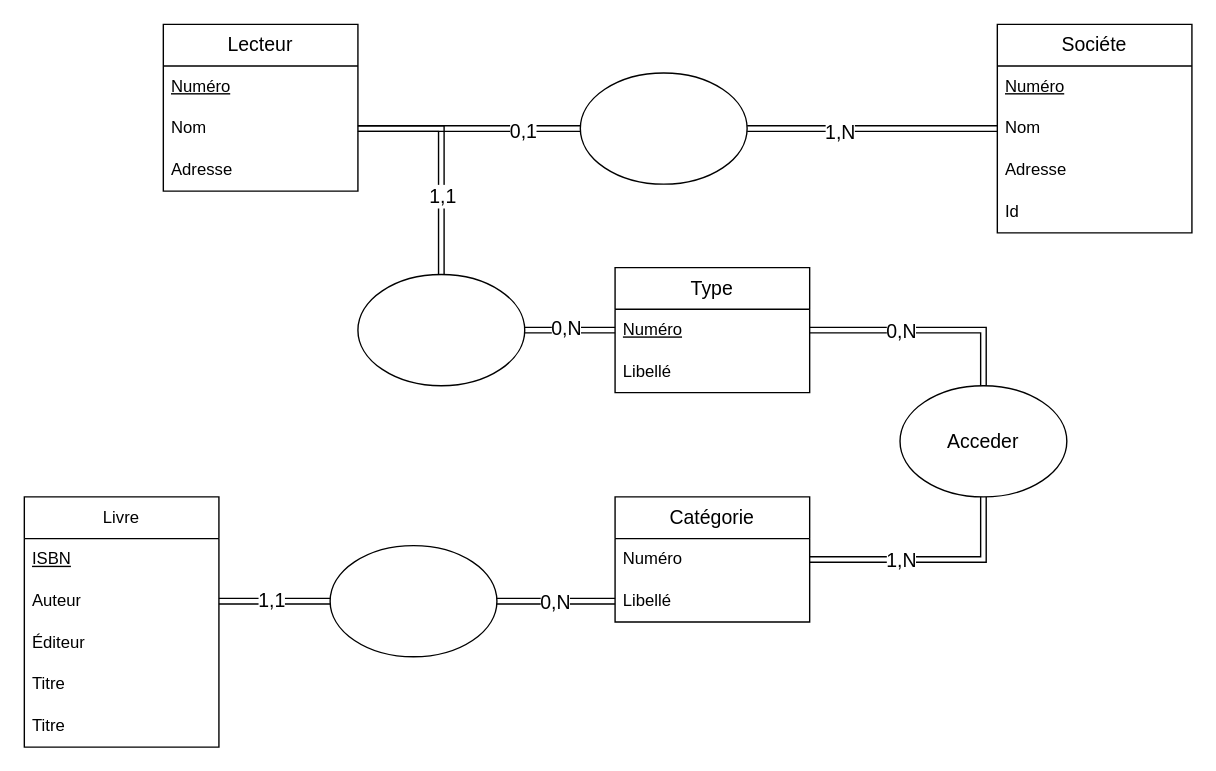
Some shapes in this 1216 by 771 pixel diagram are drawn without their labels. The shapes that lost their labels are listed below. From the top down, each one's centre as x and y in pixels, then its label:
At pixel 663 128: "Etre membre".
At pixel 441 329: "Appartient".
At pixel 413 600: "Classé".
